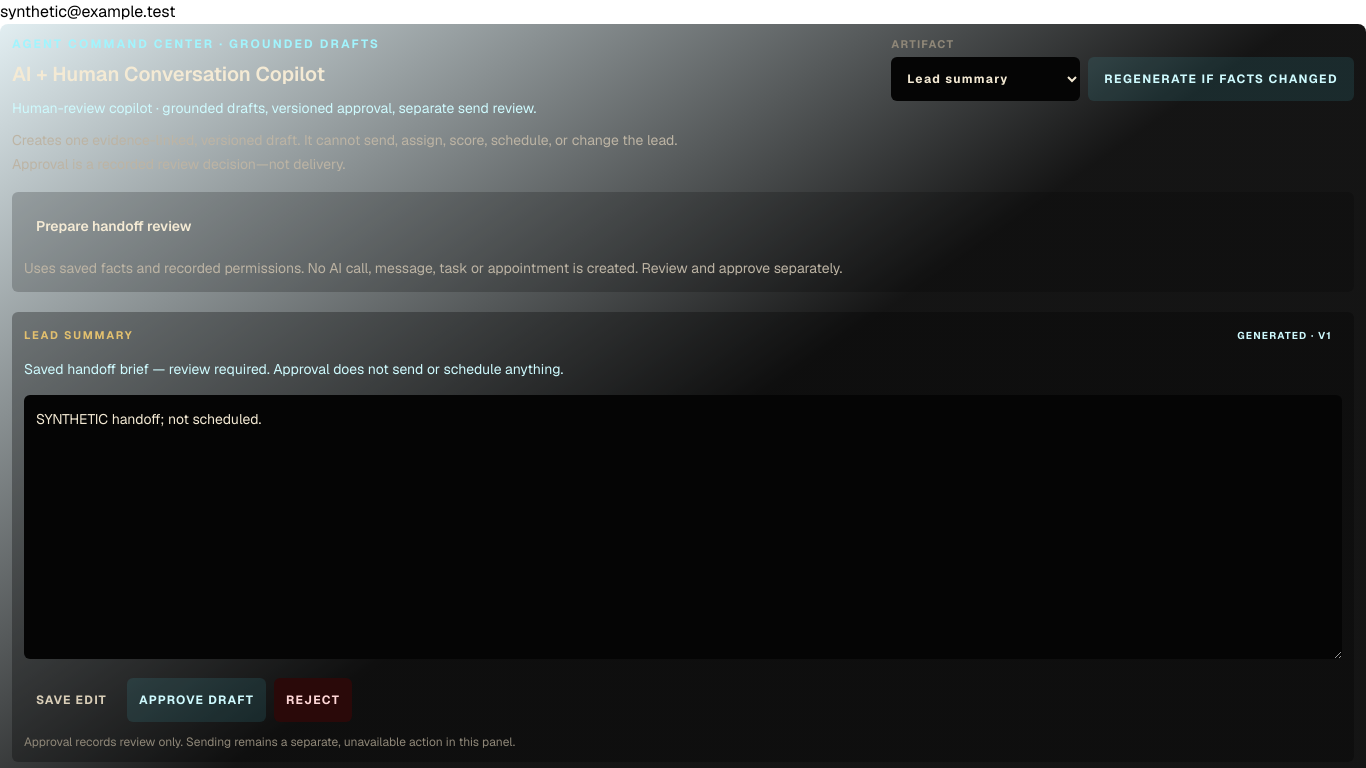
Test: handoff panel synthetic component responses (not session/SQL proof) › clears the workspace when review loses access with 401
The width and height of the screenshot is (1366, 768).
Step 1. Click the button "Approve draft" → (197, 700), box [127,678,266,722]
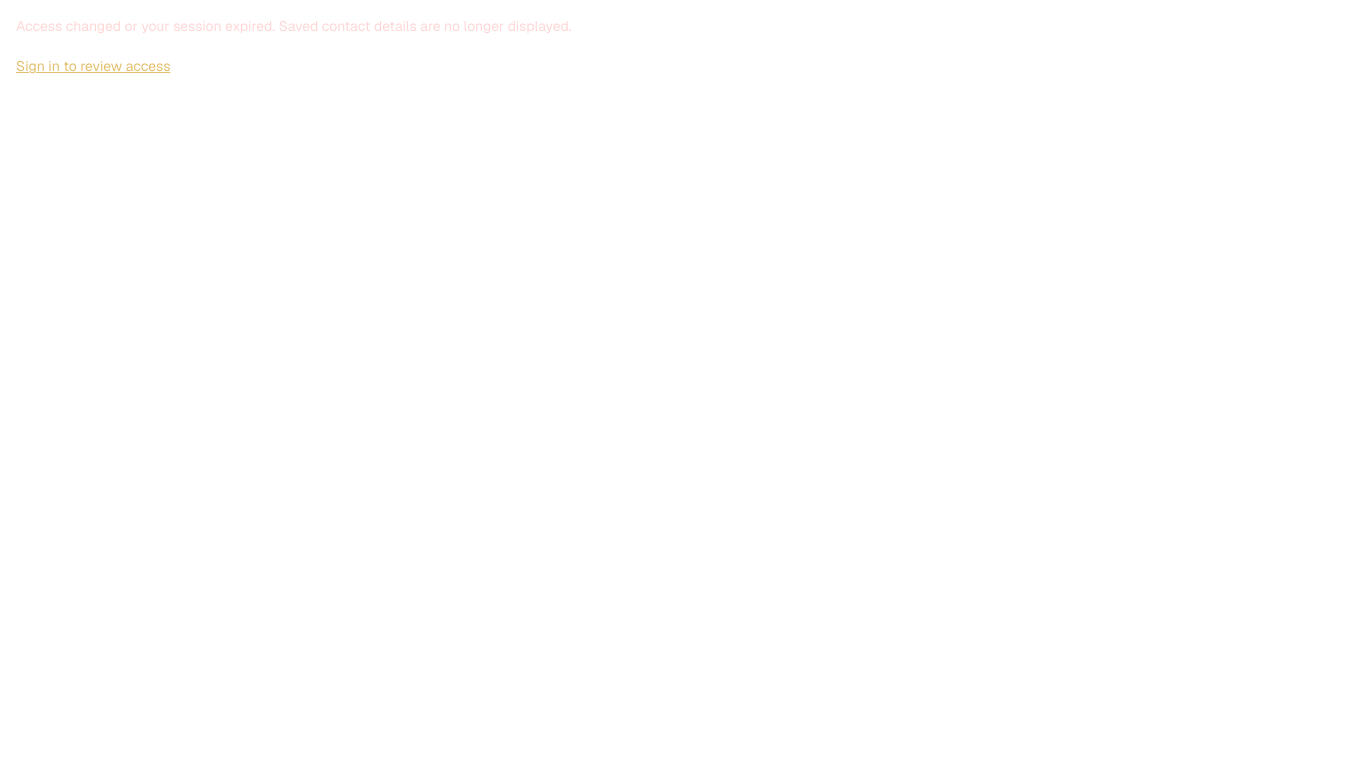
Check: the message named "Lead access unavailable" is shown, box [16,17,572,75]
Check: the text "synthetic@example.test" is gone
